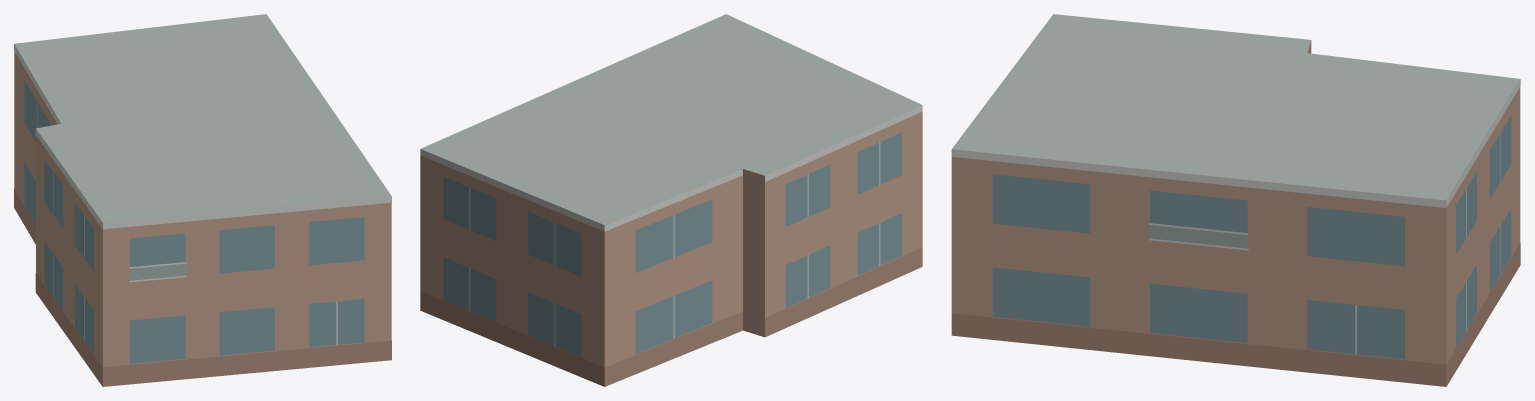
The model's file is survey-upis-33036356.glb.
The picture shows the model from 3 angles, left to right: view 1: azimuth 30°, elevation 25°; view 2: azimuth 150°, elevation 25°; view 3: azimuth 270°, elevation 25°; orthographic projection. The views are drawn at different scales.
Parts seen in each view (by area): view 1: survey-upis-33036356.tmp; view 2: survey-upis-33036356.tmp; view 3: survey-upis-33036356.tmp.
Part boxes in pixels (left/top/right/bottom): survey-upis-33036356.tmp: left=14, top=14, right=391, bottom=386; survey-upis-33036356.tmp: left=420, top=14, right=922, bottom=386; survey-upis-33036356.tmp: left=951, top=14, right=1520, bottom=386.
Bounding box in the file's own units: 13.12 × 6.1 × 16.9.
